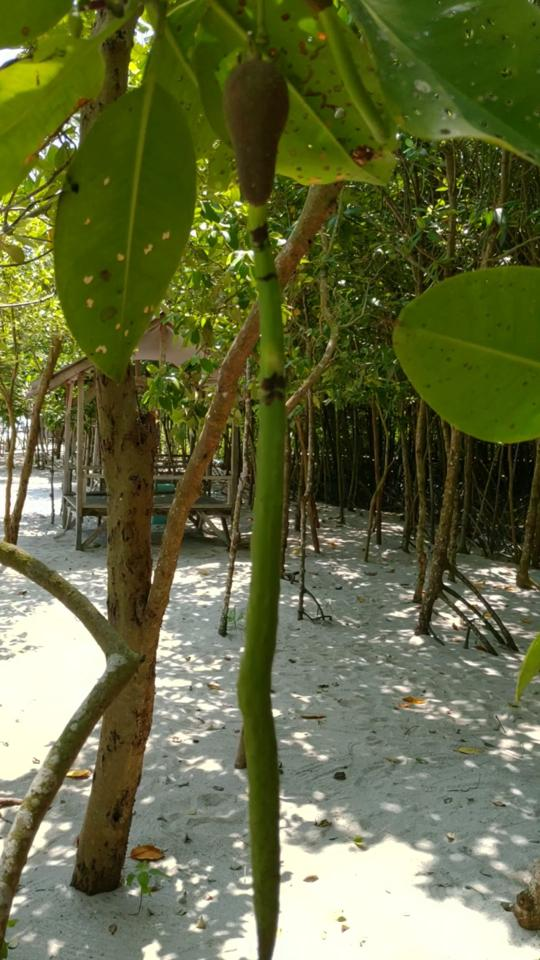mentah: (208, 27, 305, 958)
